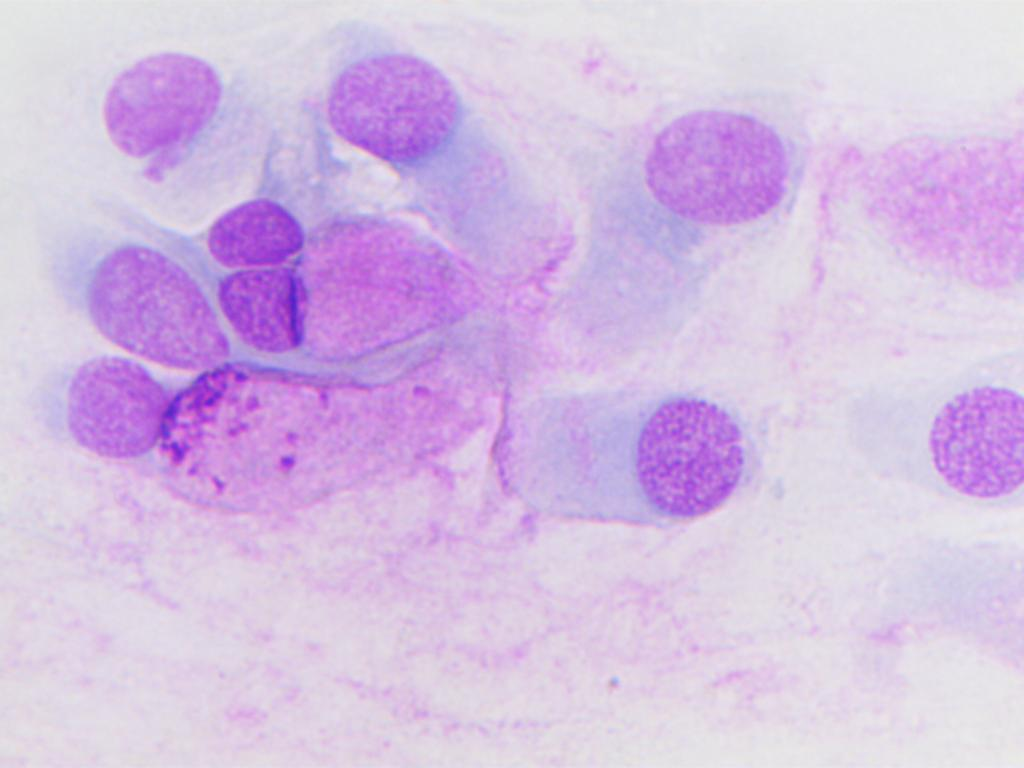ciliated: (315, 18, 591, 300)
epithelial: (56, 187, 233, 374), (801, 360, 1023, 504), (633, 86, 809, 237), (82, 25, 243, 168), (200, 191, 301, 263)
goblet_cell: (49, 353, 489, 509), (493, 379, 783, 554), (221, 247, 497, 360)
